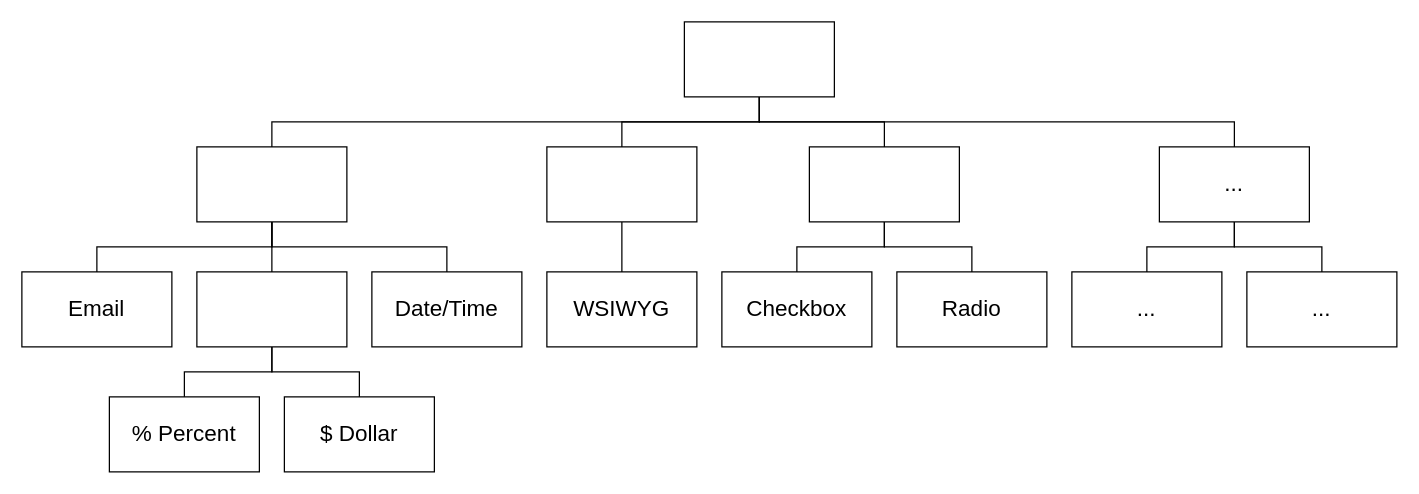
Some shapes in this 1419 by 494 pixel diagram are drawn without their labels. The shapes that lost their labels are listed below. From the top down, each one's box as (x1, y1, x2, y2) in pixels, then its label:
(683, 21, 834, 97): Field
(196, 146, 347, 222): Text
(546, 146, 697, 222): Text Area
(808, 146, 959, 222): Boolean
(196, 271, 347, 347): Number
